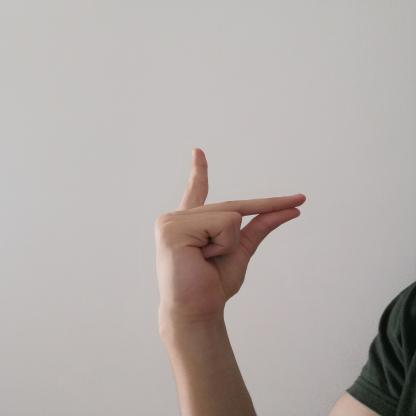TAA: (144, 142, 312, 329)
